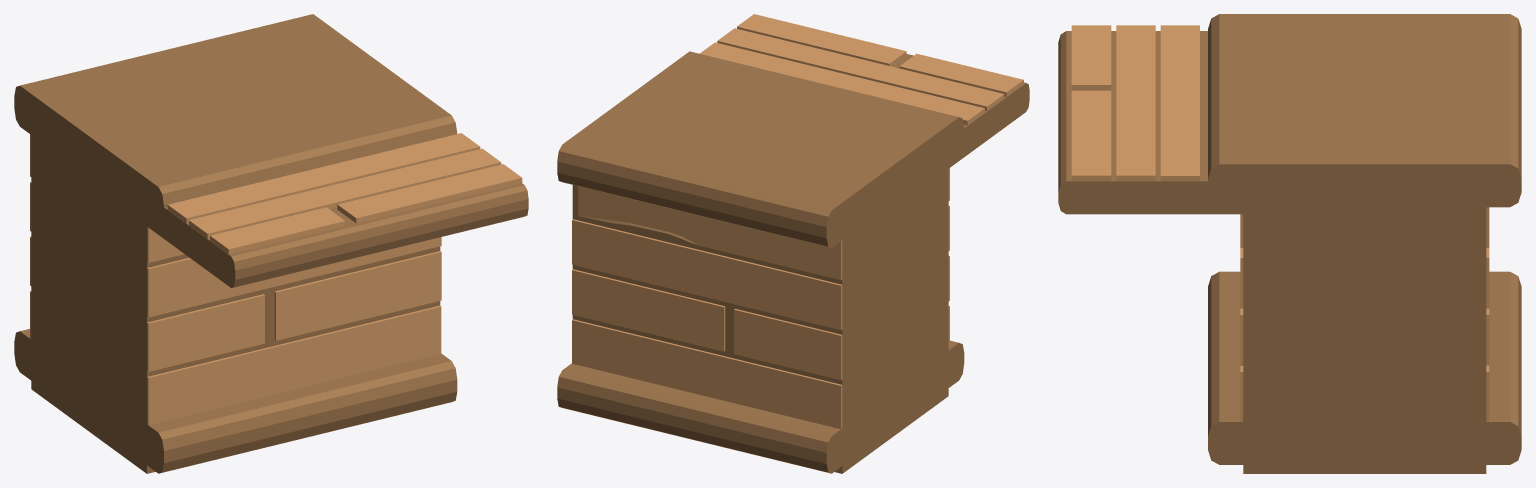
The model's file is Counter_Straight_21.fbx.
The picture shows the model from 3 angles, left to right: view 1: azimuth 30°, elevation 25°; view 2: azimuth 150°, elevation 25°; view 3: azimuth 270°, elevation 25°; orthographic projection. The views are drawn at different scales.
Visible parts, largest first — view 1: Environment_Counter_Straight_2; view 2: Environment_Counter_Straight_2; view 3: Environment_Counter_Straight_2.
Part boxes in pixels (x1=…): Environment_Counter_Straight_2: x1=14, y1=14, x2=528, y2=473; Environment_Counter_Straight_2: x1=557, y1=14, x2=1029, y2=473; Environment_Counter_Straight_2: x1=1058, y1=14, x2=1521, y2=473.
Bounding box in the file's own units: 200 × 192 × 261.
